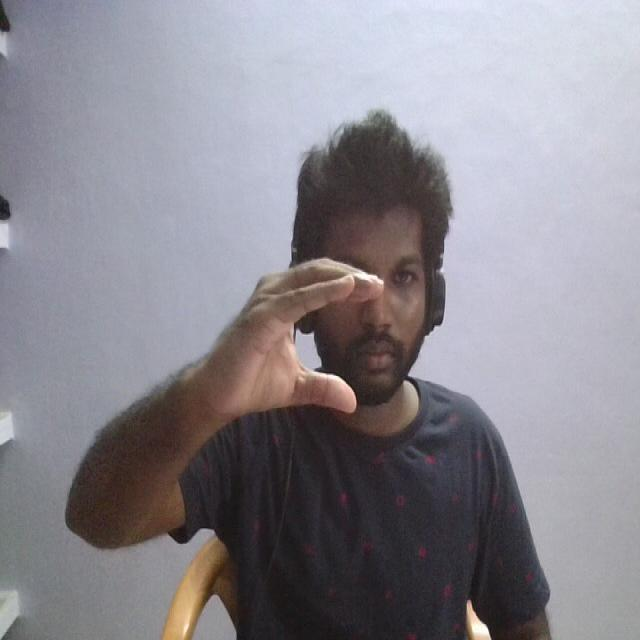No: (206, 224, 420, 454)
